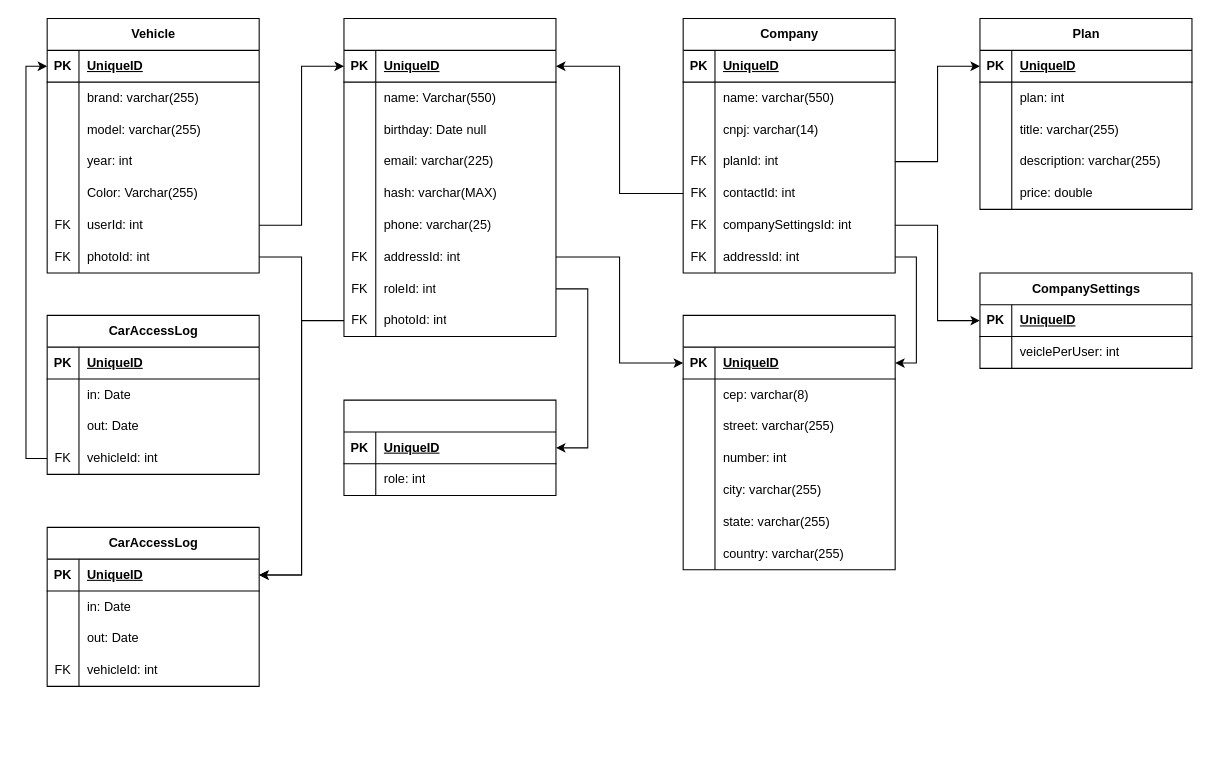
This 1211x763 diagram has some shape labels left out. The box of each missing label's shape, as (x1, y1, x2, y2) in pixels:
Address: (682, 314, 895, 570)
Roles: (343, 399, 556, 496)
User: (343, 17, 556, 337)
